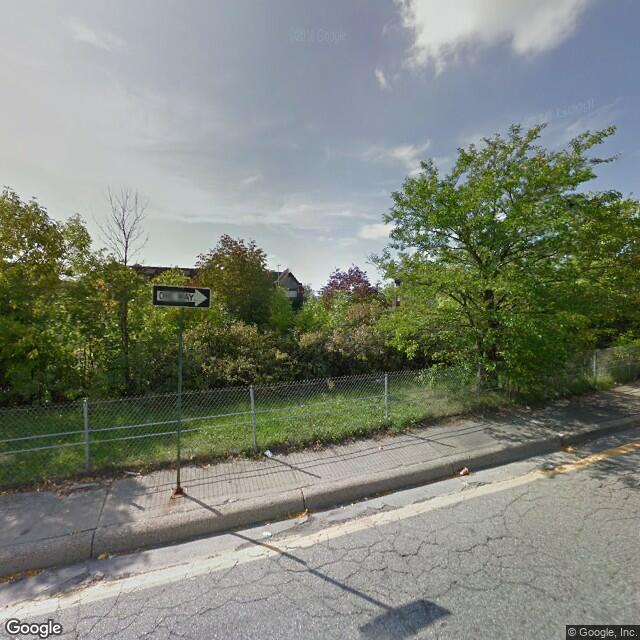litter: (261, 448, 274, 457), (457, 467, 470, 475), (263, 531, 270, 537)
